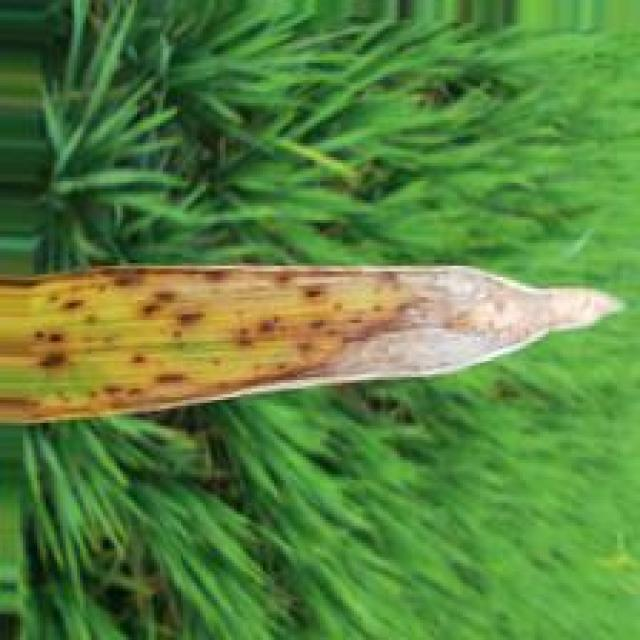Narrow_Brown_Leaf_Spot: (0, 260, 629, 428)
